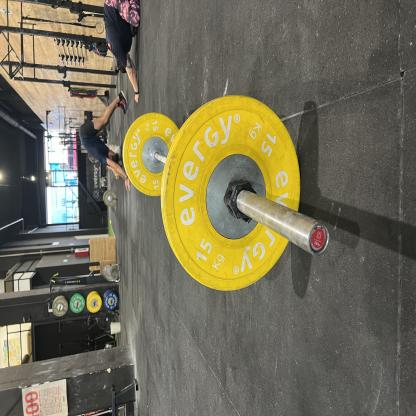barbell: (94, 214, 243, 404)
